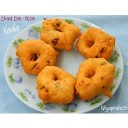vada: (75, 57, 113, 99), (37, 64, 74, 106), (16, 38, 58, 71), (39, 17, 76, 50), (79, 28, 114, 59)
